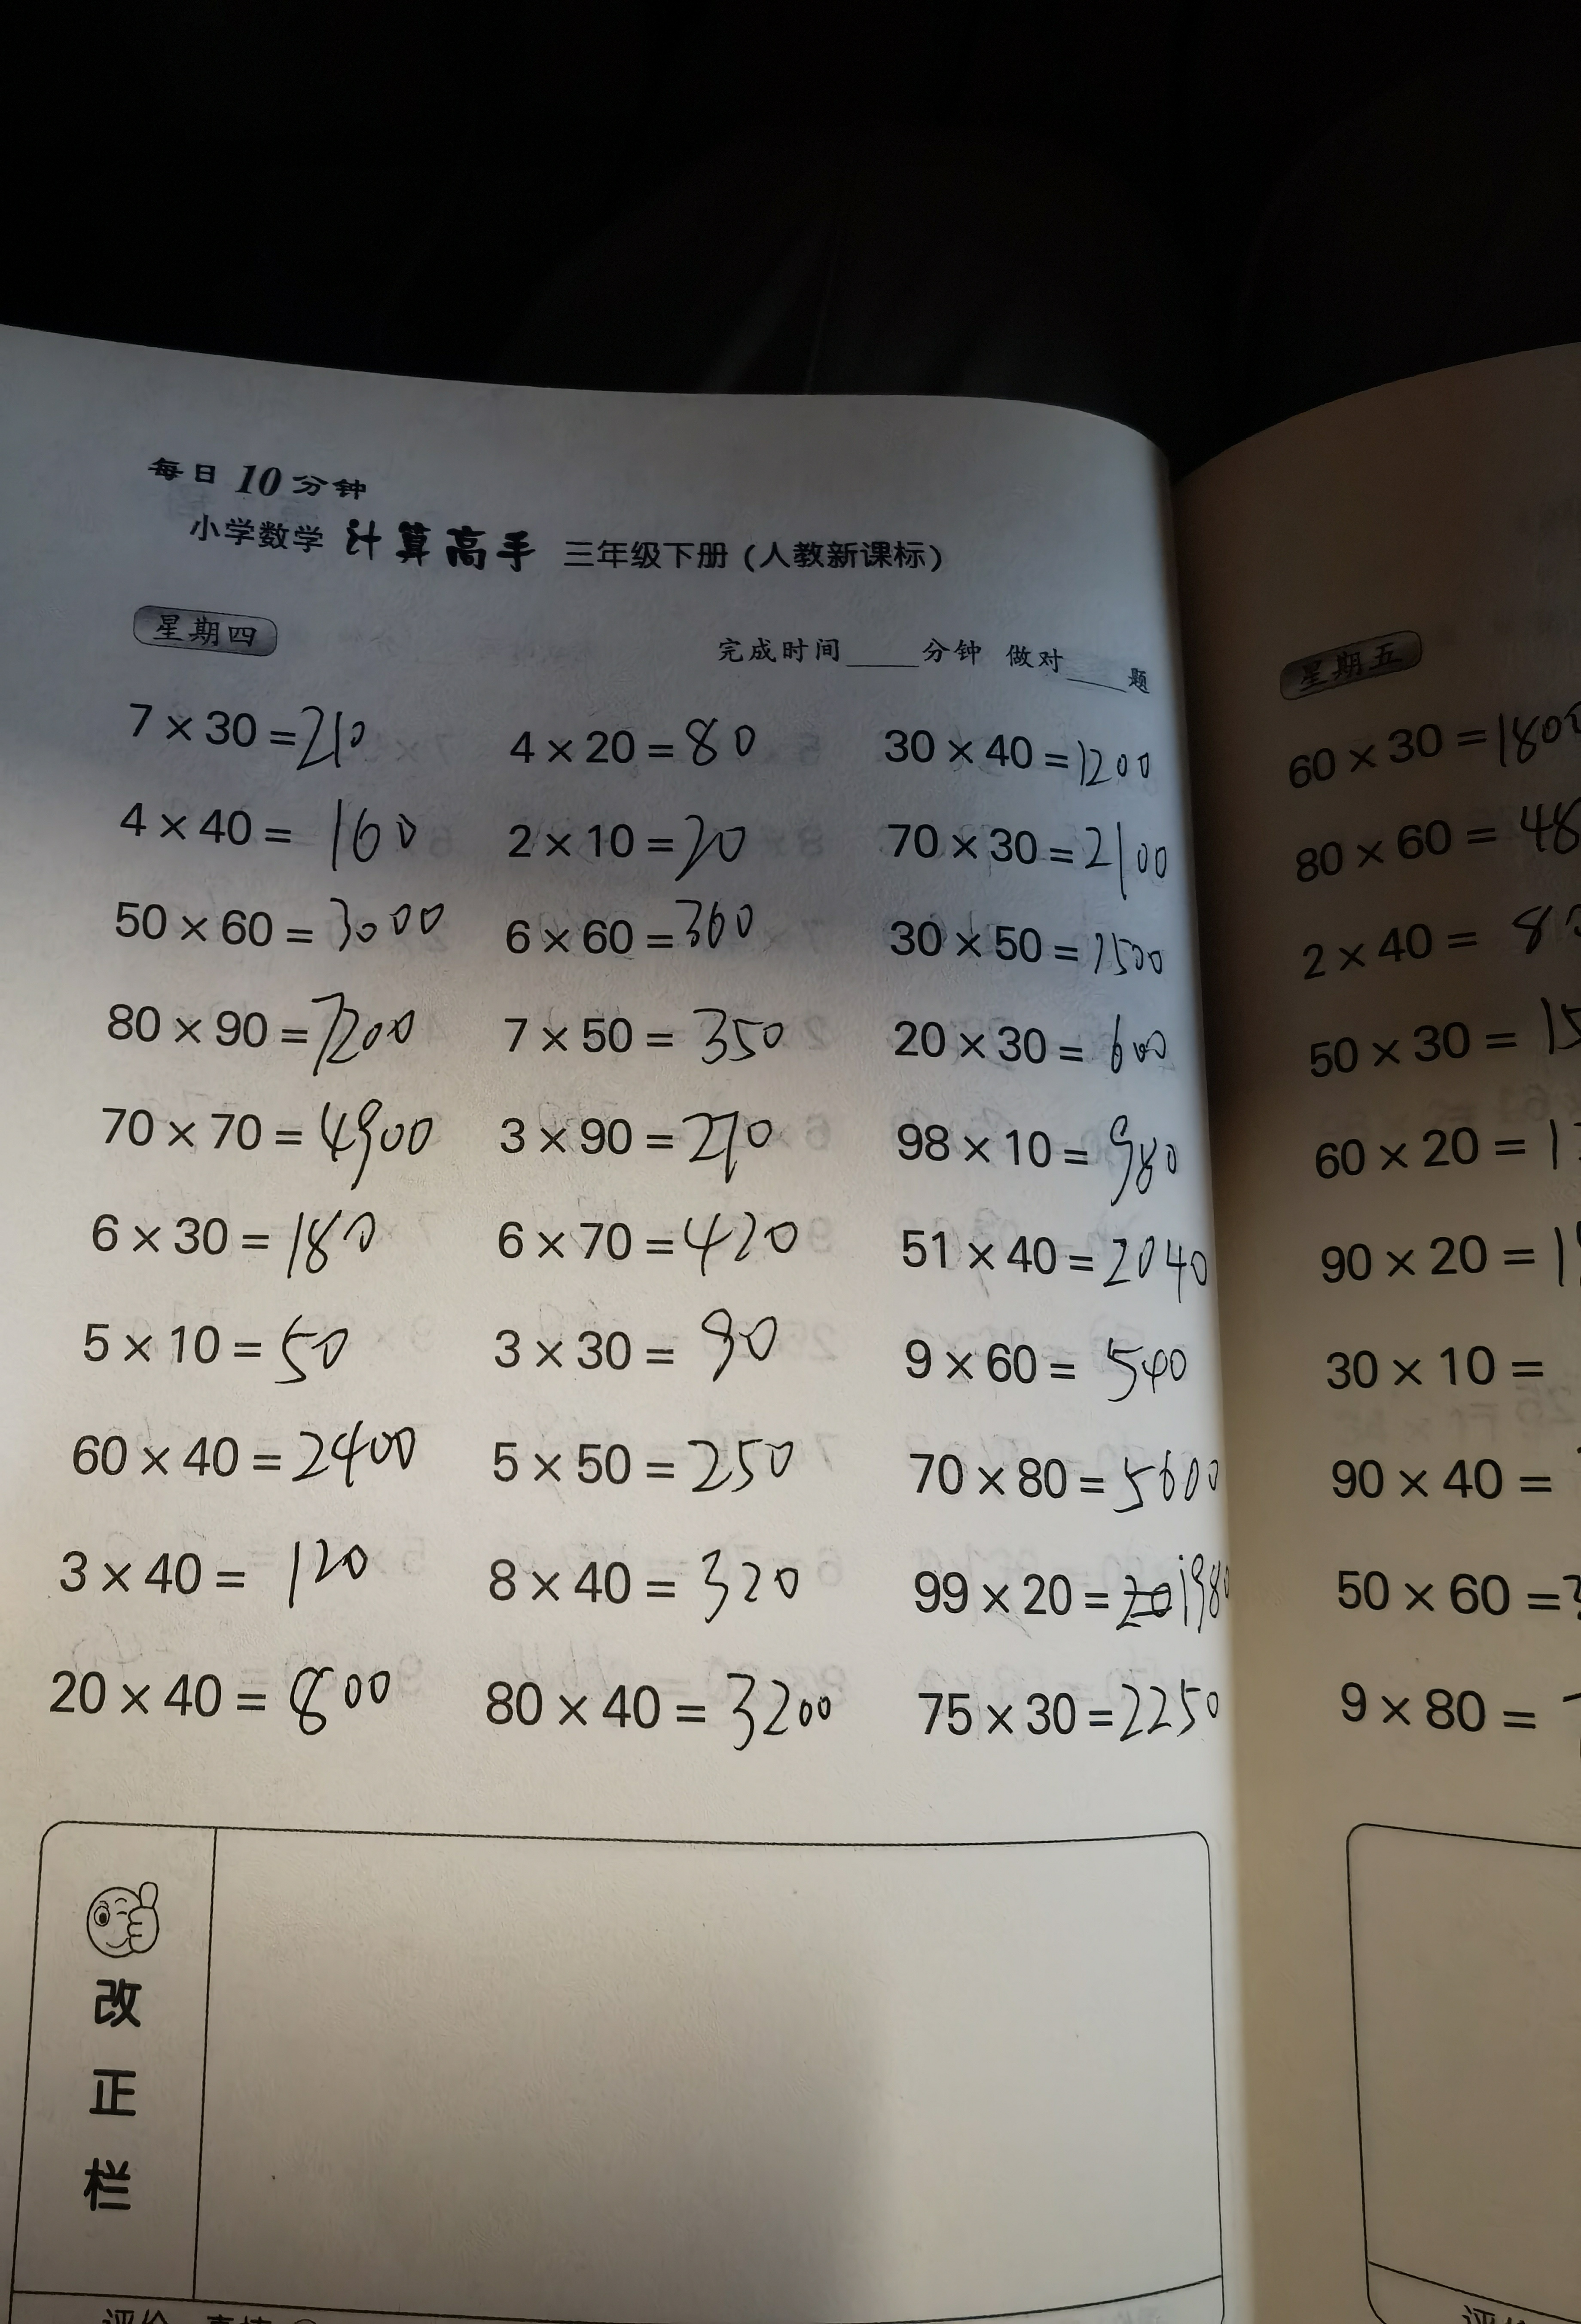equation: (48, 1627, 422, 1763), (464, 1657, 866, 1772), (48, 1511, 406, 1618), (478, 1292, 840, 1394), (480, 1532, 845, 1632), (889, 1652, 1230, 1759), (889, 1212, 1237, 1316), (88, 1091, 459, 1188), (875, 1549, 1251, 1643), (102, 877, 475, 971), (880, 1098, 1209, 1203), (71, 1417, 455, 1503), (113, 976, 448, 1075), (469, 1195, 824, 1286), (101, 660, 393, 769), (889, 1435, 1235, 1526), (861, 1002, 1203, 1094), (879, 805, 1202, 902), (870, 715, 1177, 812), (65, 1292, 395, 1382), (485, 896, 815, 986), (872, 1316, 1200, 1406), (476, 1417, 822, 1502), (111, 778, 416, 873), (884, 905, 1182, 1001), (478, 799, 805, 882), (494, 1099, 792, 1188), (499, 704, 775, 792), (480, 1004, 806, 1078), (90, 1198, 379, 1276)
